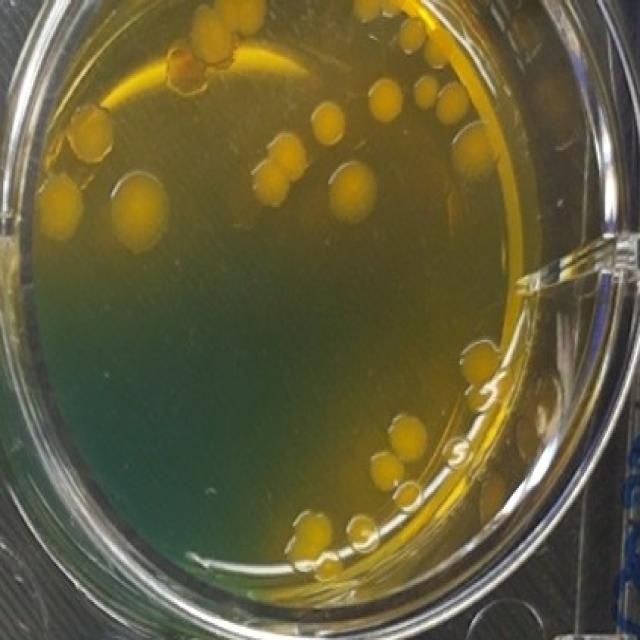vibrio: (102, 166, 176, 260), (319, 152, 389, 244), (247, 126, 310, 214), (32, 168, 88, 246), (61, 93, 118, 168), (281, 504, 337, 577), (445, 121, 503, 188), (186, 2, 238, 69), (457, 332, 506, 391), (302, 91, 350, 151), (385, 408, 431, 467), (365, 72, 407, 130), (365, 446, 405, 496), (344, 511, 381, 562), (225, 0, 271, 40), (436, 77, 472, 127), (421, 22, 457, 72), (463, 378, 503, 422), (440, 432, 473, 478), (395, 13, 427, 58), (392, 478, 425, 520), (411, 71, 441, 112)
